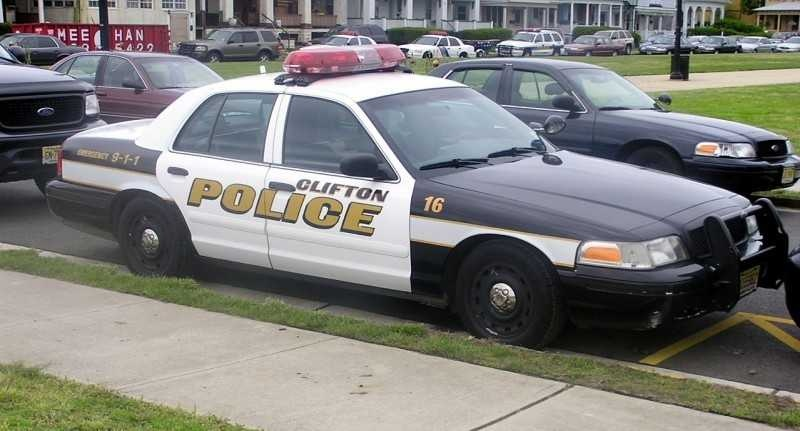Police Car: (67, 23, 756, 402)
